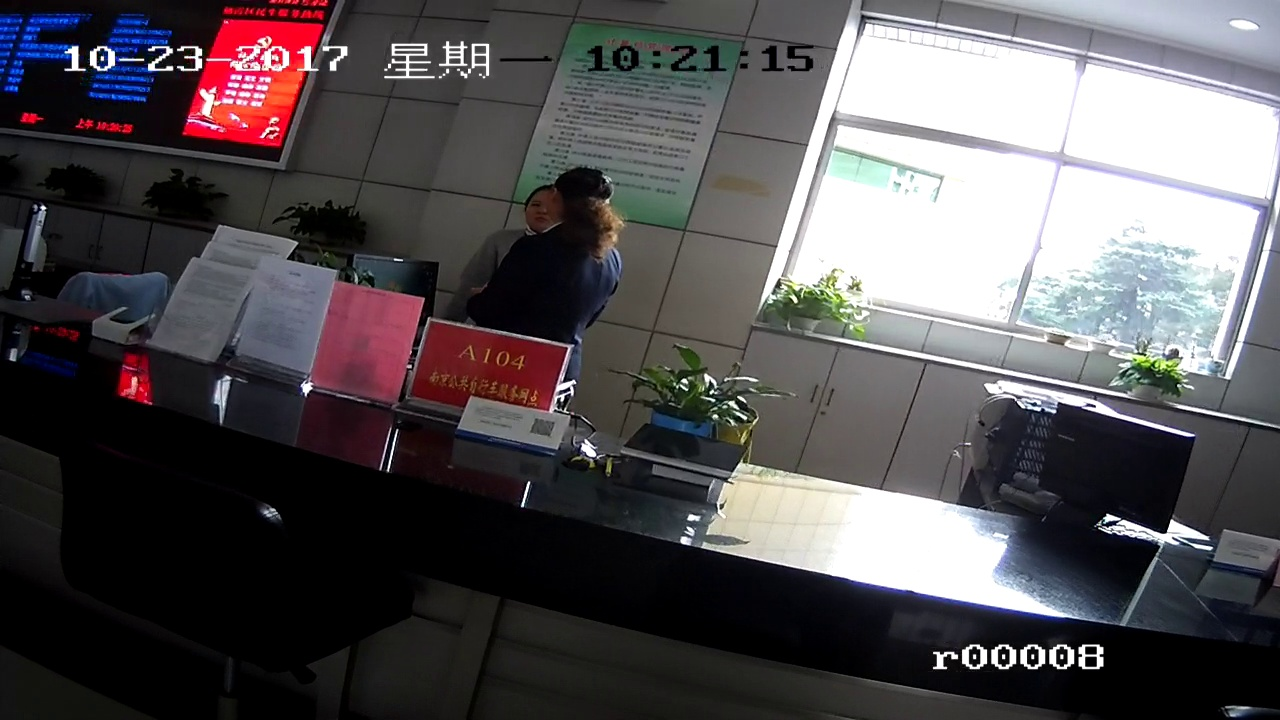billboard: (552, 39, 705, 182), (428, 328, 549, 424)
person: (543, 167, 621, 314), (501, 183, 568, 238)
pot: (641, 366, 749, 440), (785, 274, 863, 352), (1116, 355, 1175, 405)
